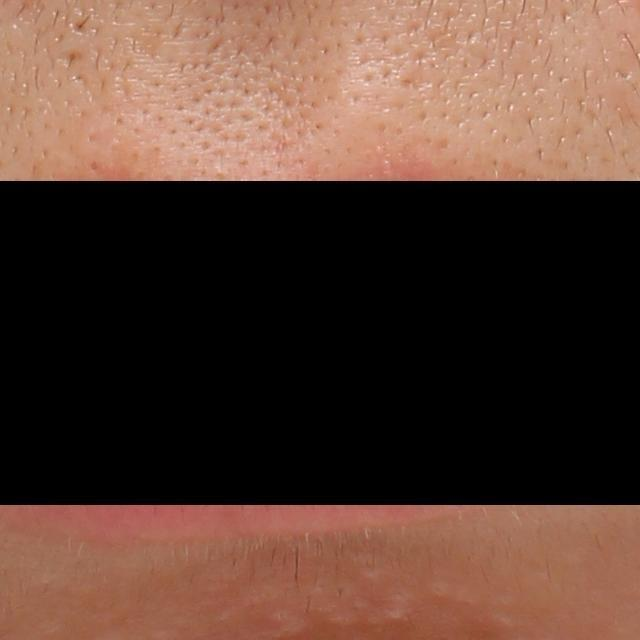hypertrophic_scar: (425, 568, 513, 606), (369, 606, 412, 626), (489, 612, 527, 629), (356, 566, 384, 586), (326, 612, 363, 627)
